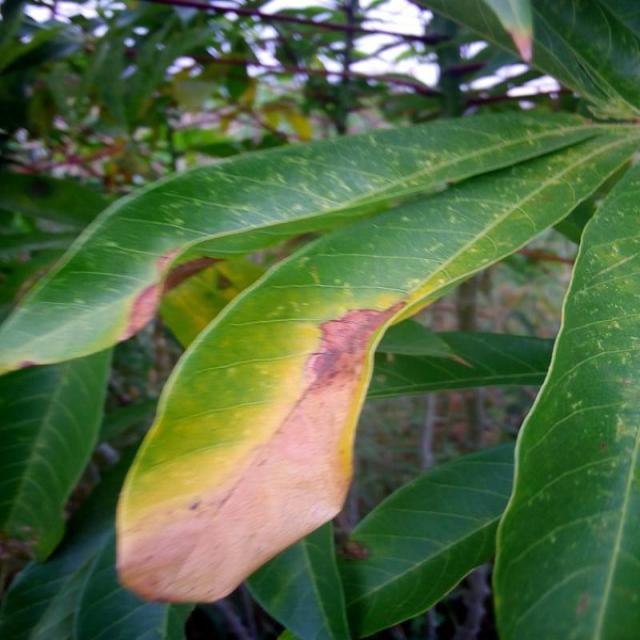cassava leaf: (2, 105, 639, 611), (491, 156, 640, 638)
